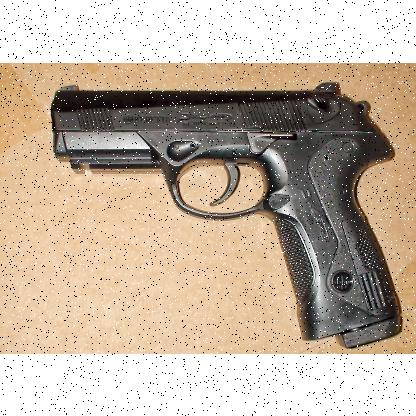gun: (51, 78, 403, 350)
